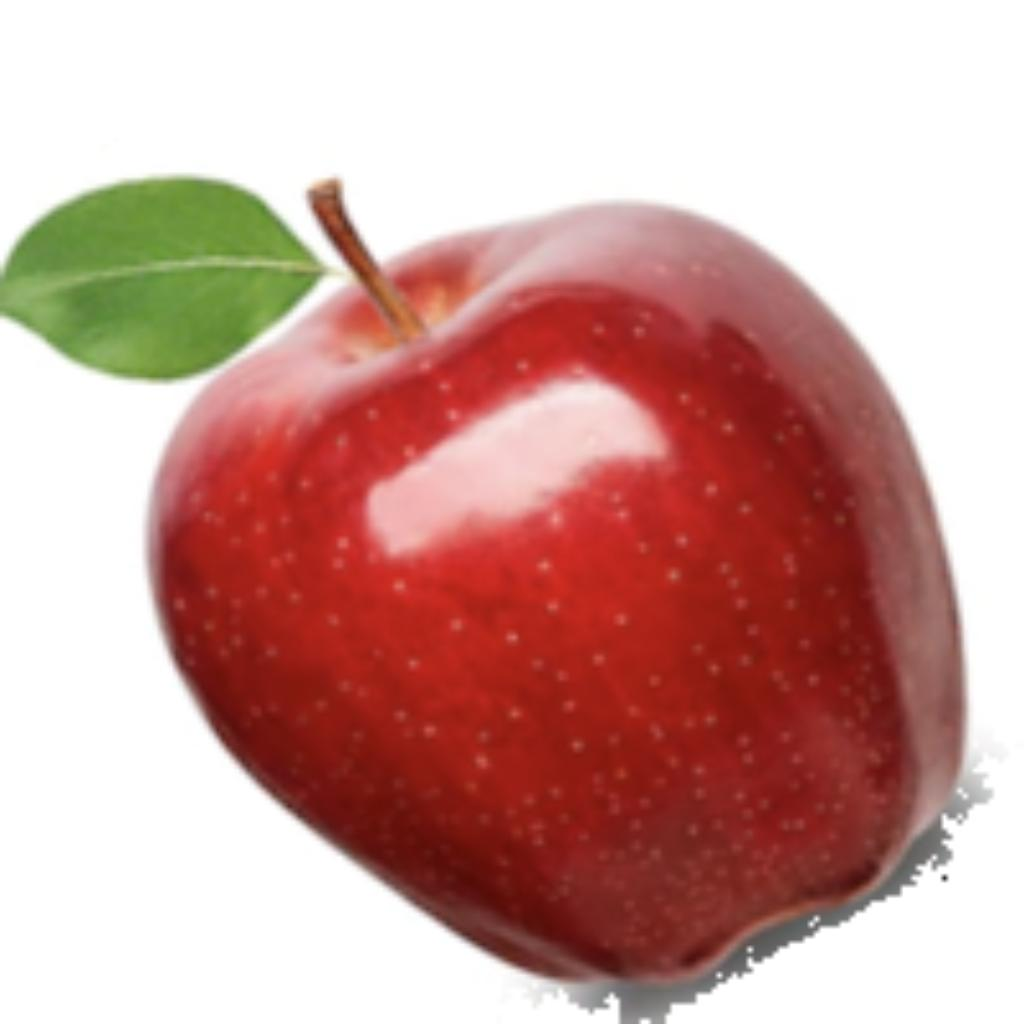apple: (134, 169, 1009, 1019)
